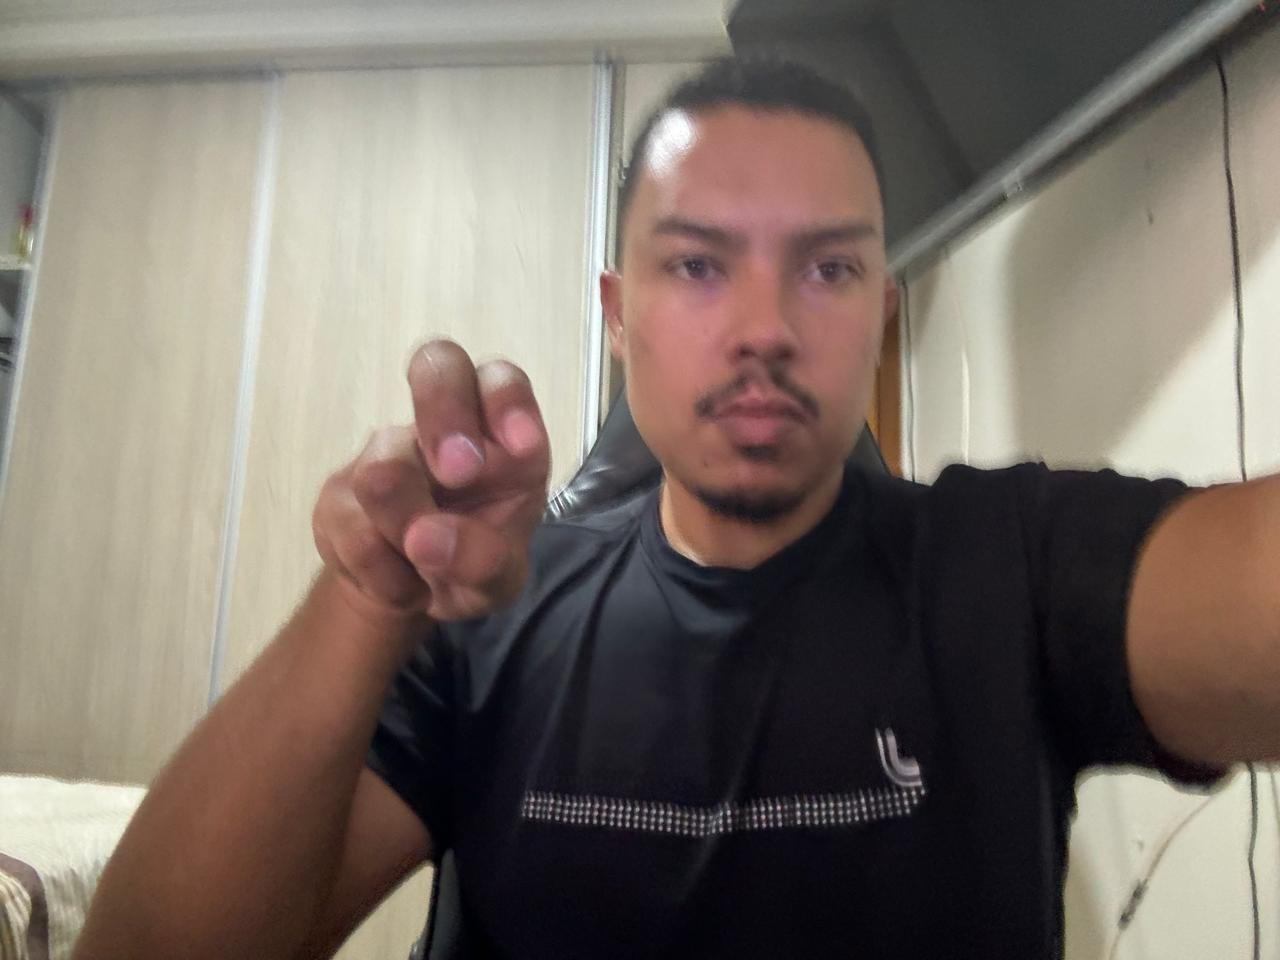n: (298, 325, 563, 637)
